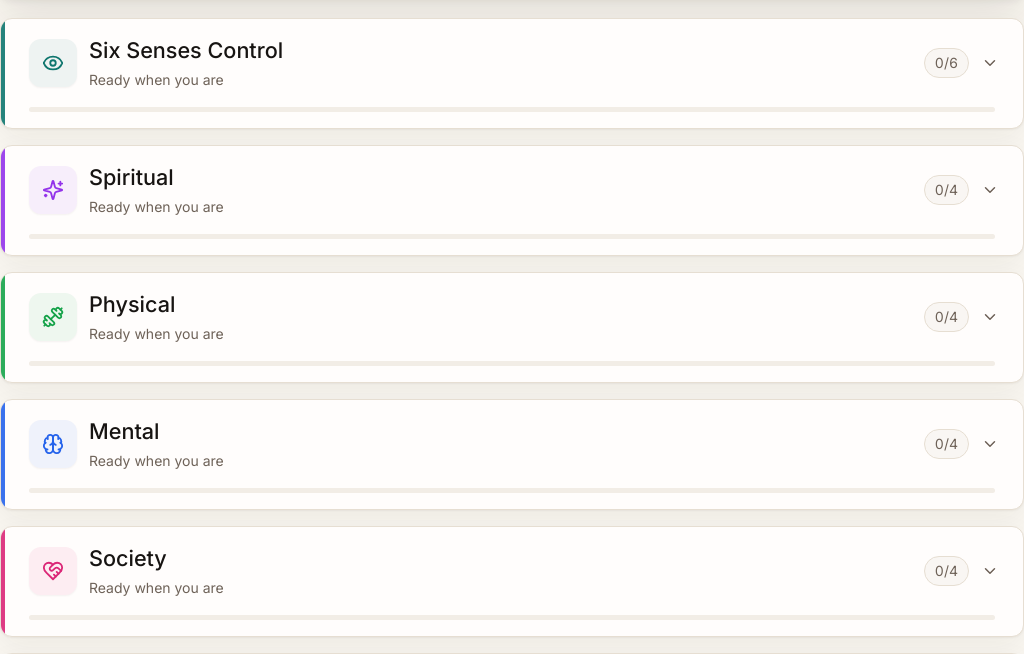
TodayScreen › renders numeric tracking controls and persists their values
The image size is (1024, 654).
(page scrolled)
Click the button with aria-label "Expand Physical" at x=53, y=317, box [1,273,1023,361]
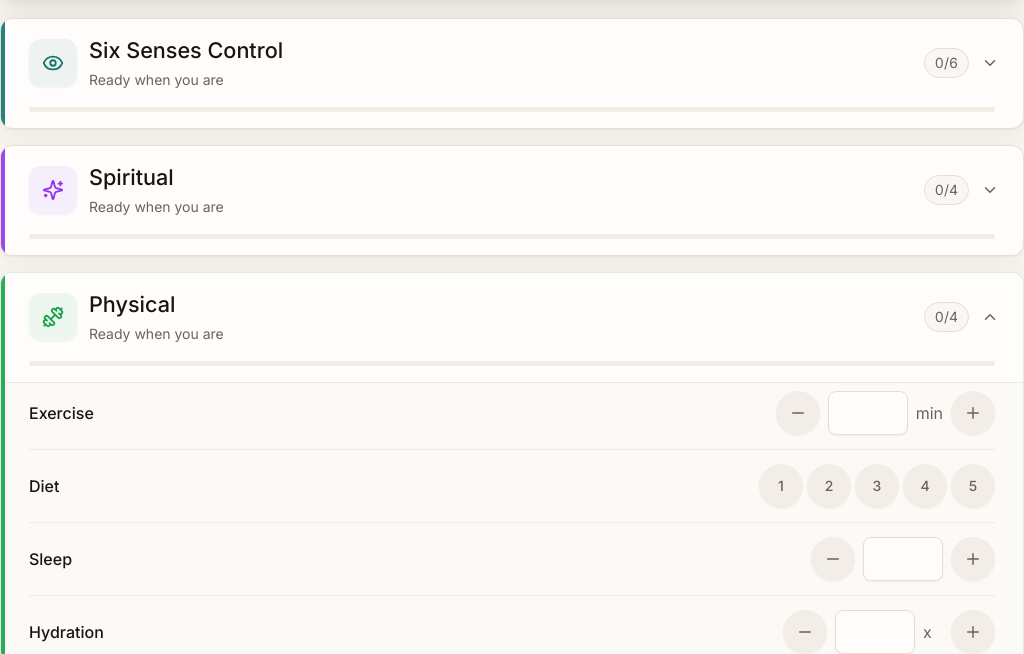
Click the button named "Increase Exercise" at x=973, y=413, box [951,391,995,435]
(page scrolled)
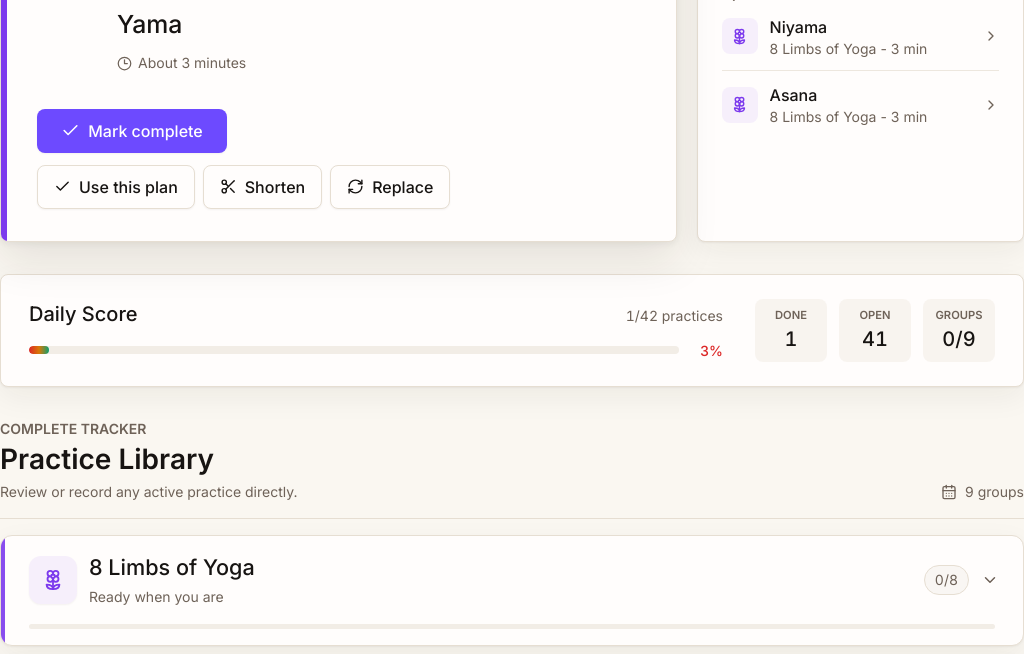
Now the text "1/42 practices" is shown, box [626,306,723,326]
